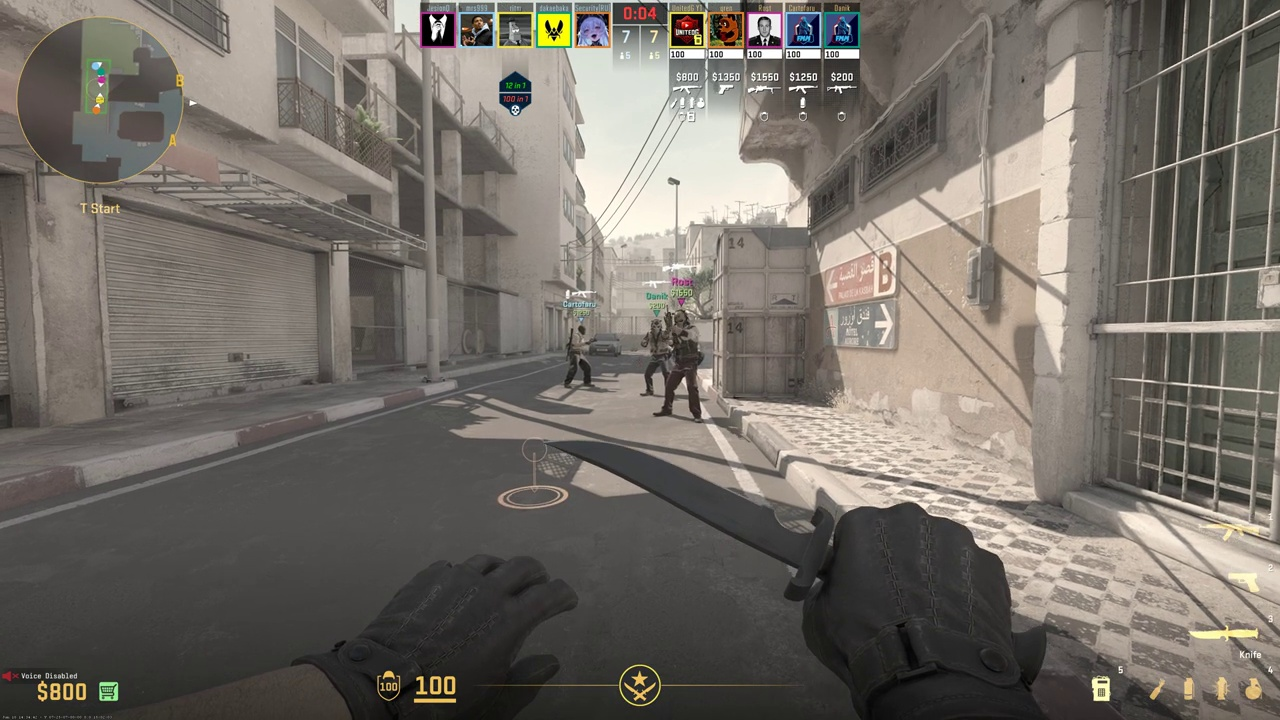Terrorist: (663, 309, 701, 417), (564, 325, 595, 388), (640, 319, 666, 394)
